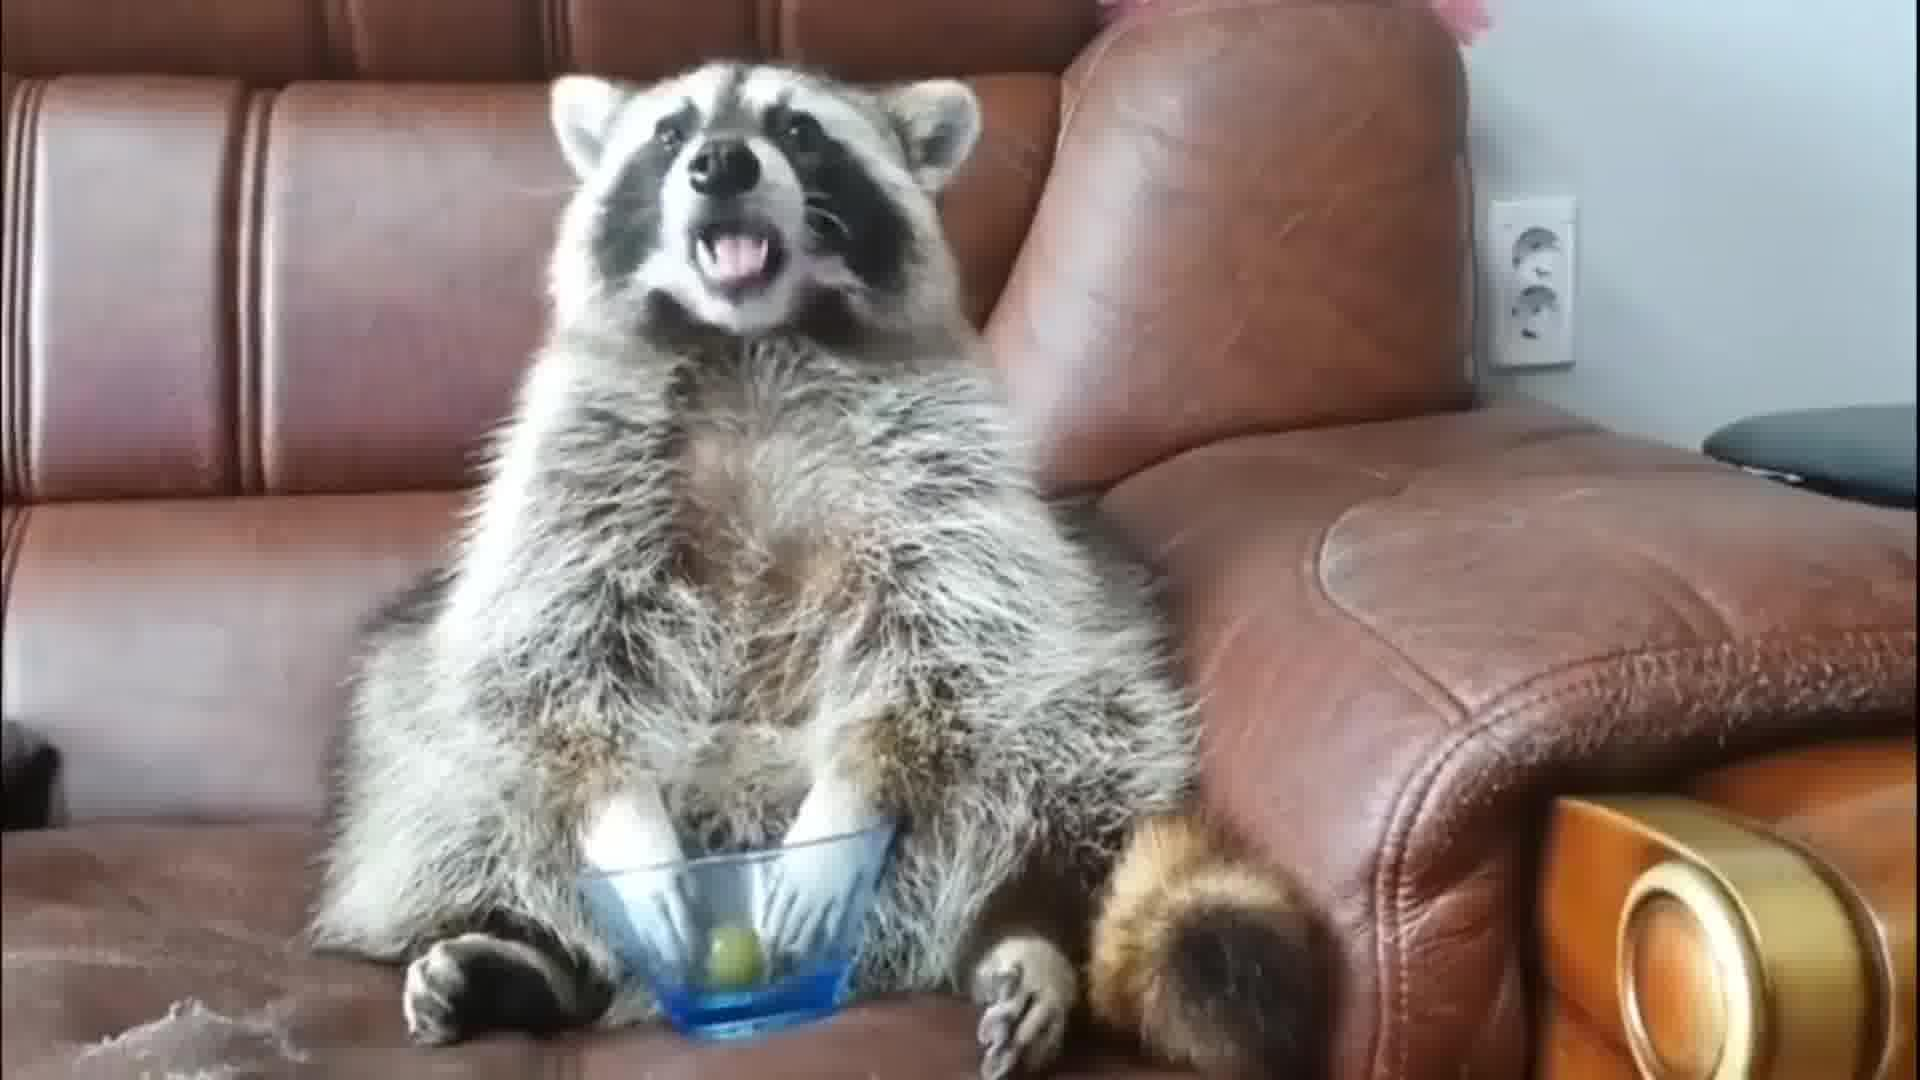raccoon: (306, 49, 1358, 1080)
